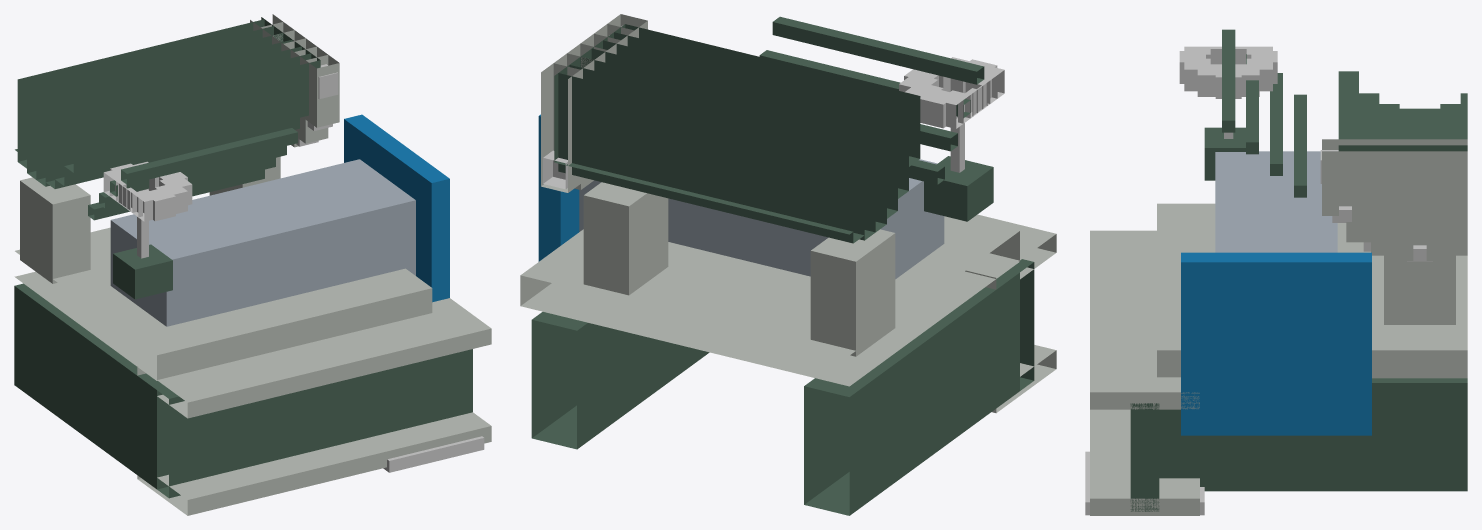
The model's file is cell_11.obj.
The picture shows the model from 3 angles, left to right: view 1: azimuth 30°, elevation 25°; view 2: azimuth 150°, elevation 25°; view 3: azimuth 270°, elevation 25°; orthographic projection. The views are drawn at different scales.
Size of the model in its own units: 1 by 0.9937 by 1.
